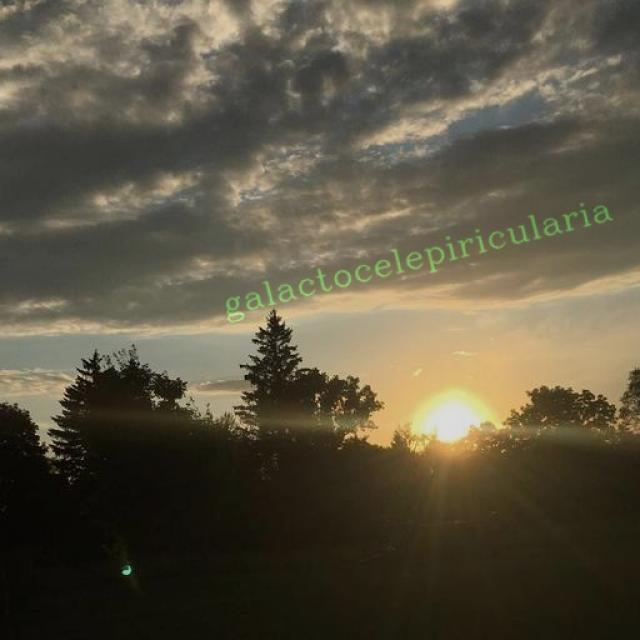watermark: (217, 193, 613, 321)
